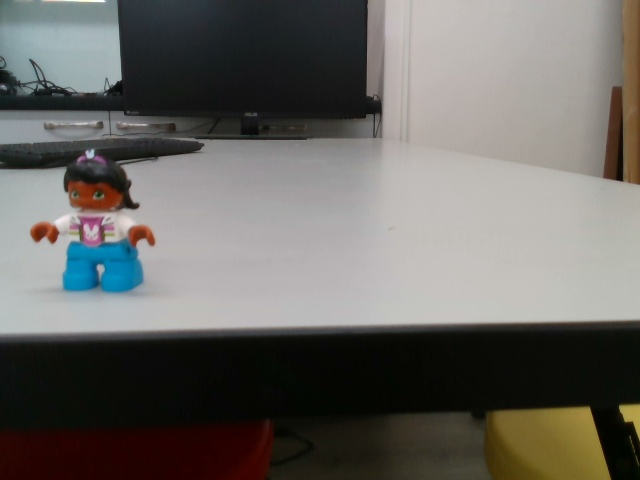people: (27, 146, 159, 297)
